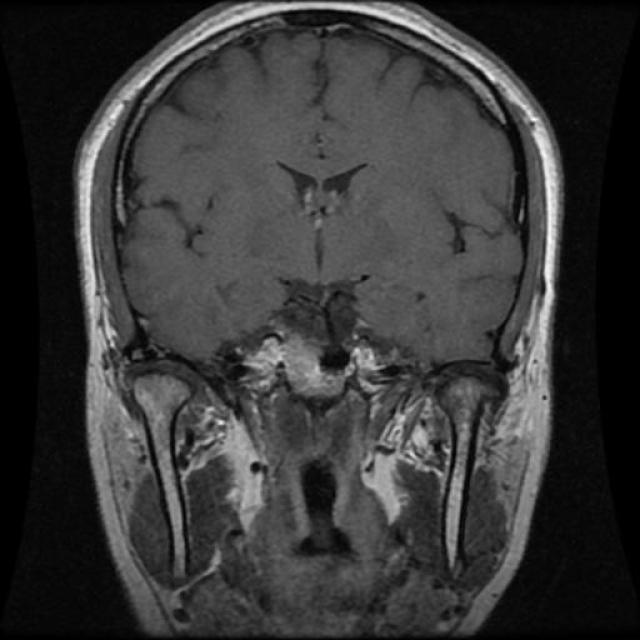pituitary: (240, 272, 394, 398)
